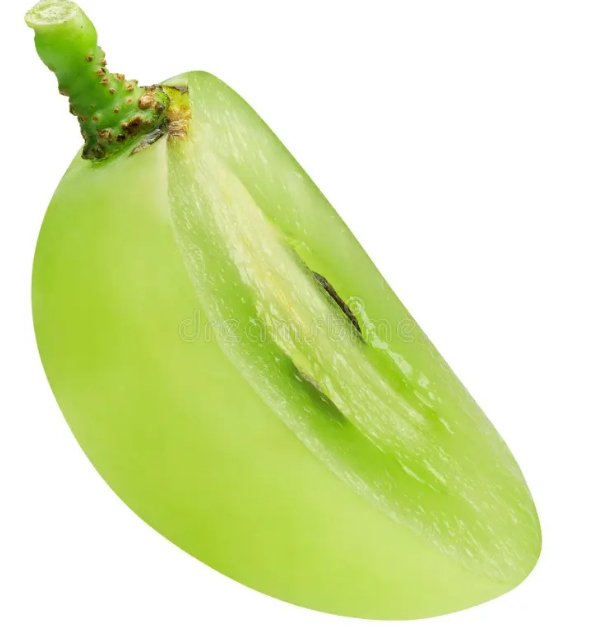grapes: (29, 63, 558, 620)
